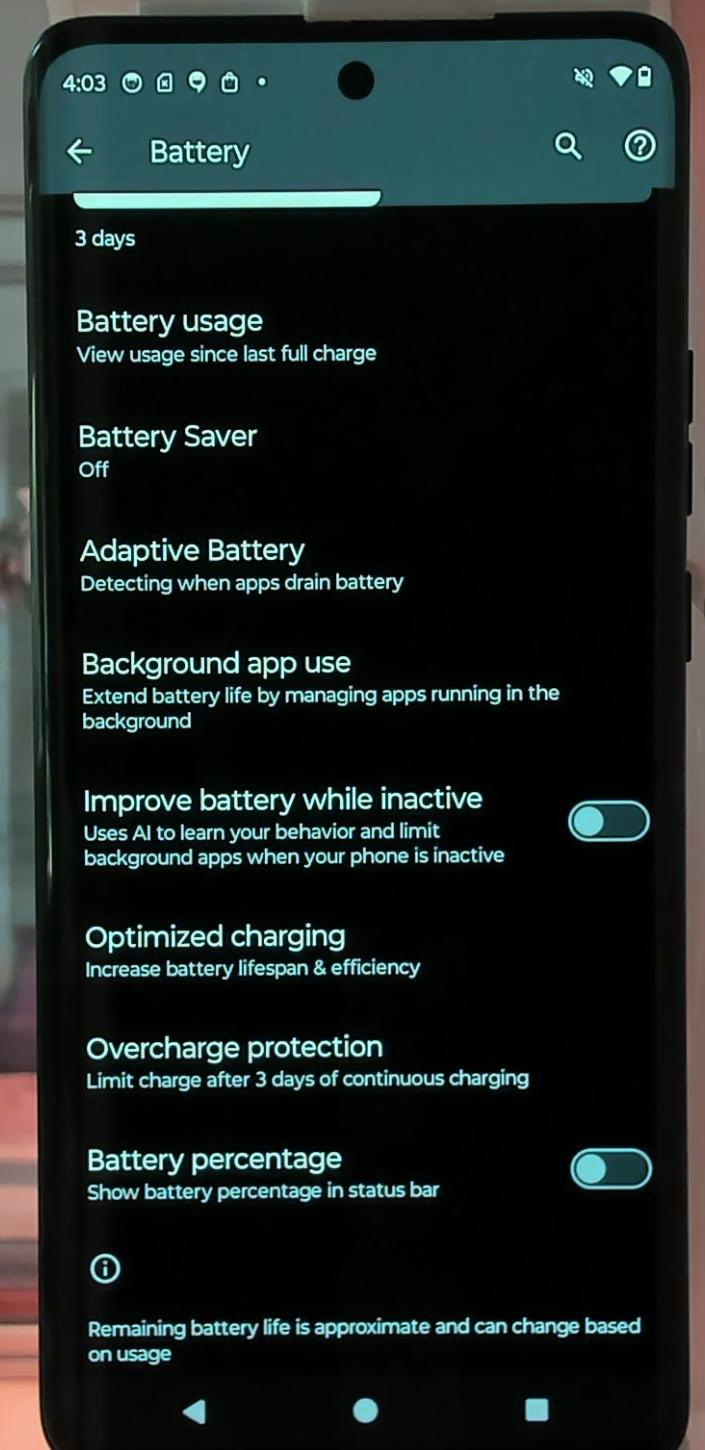Checkbox: (78, 783, 656, 875), (78, 1132, 656, 1215)
